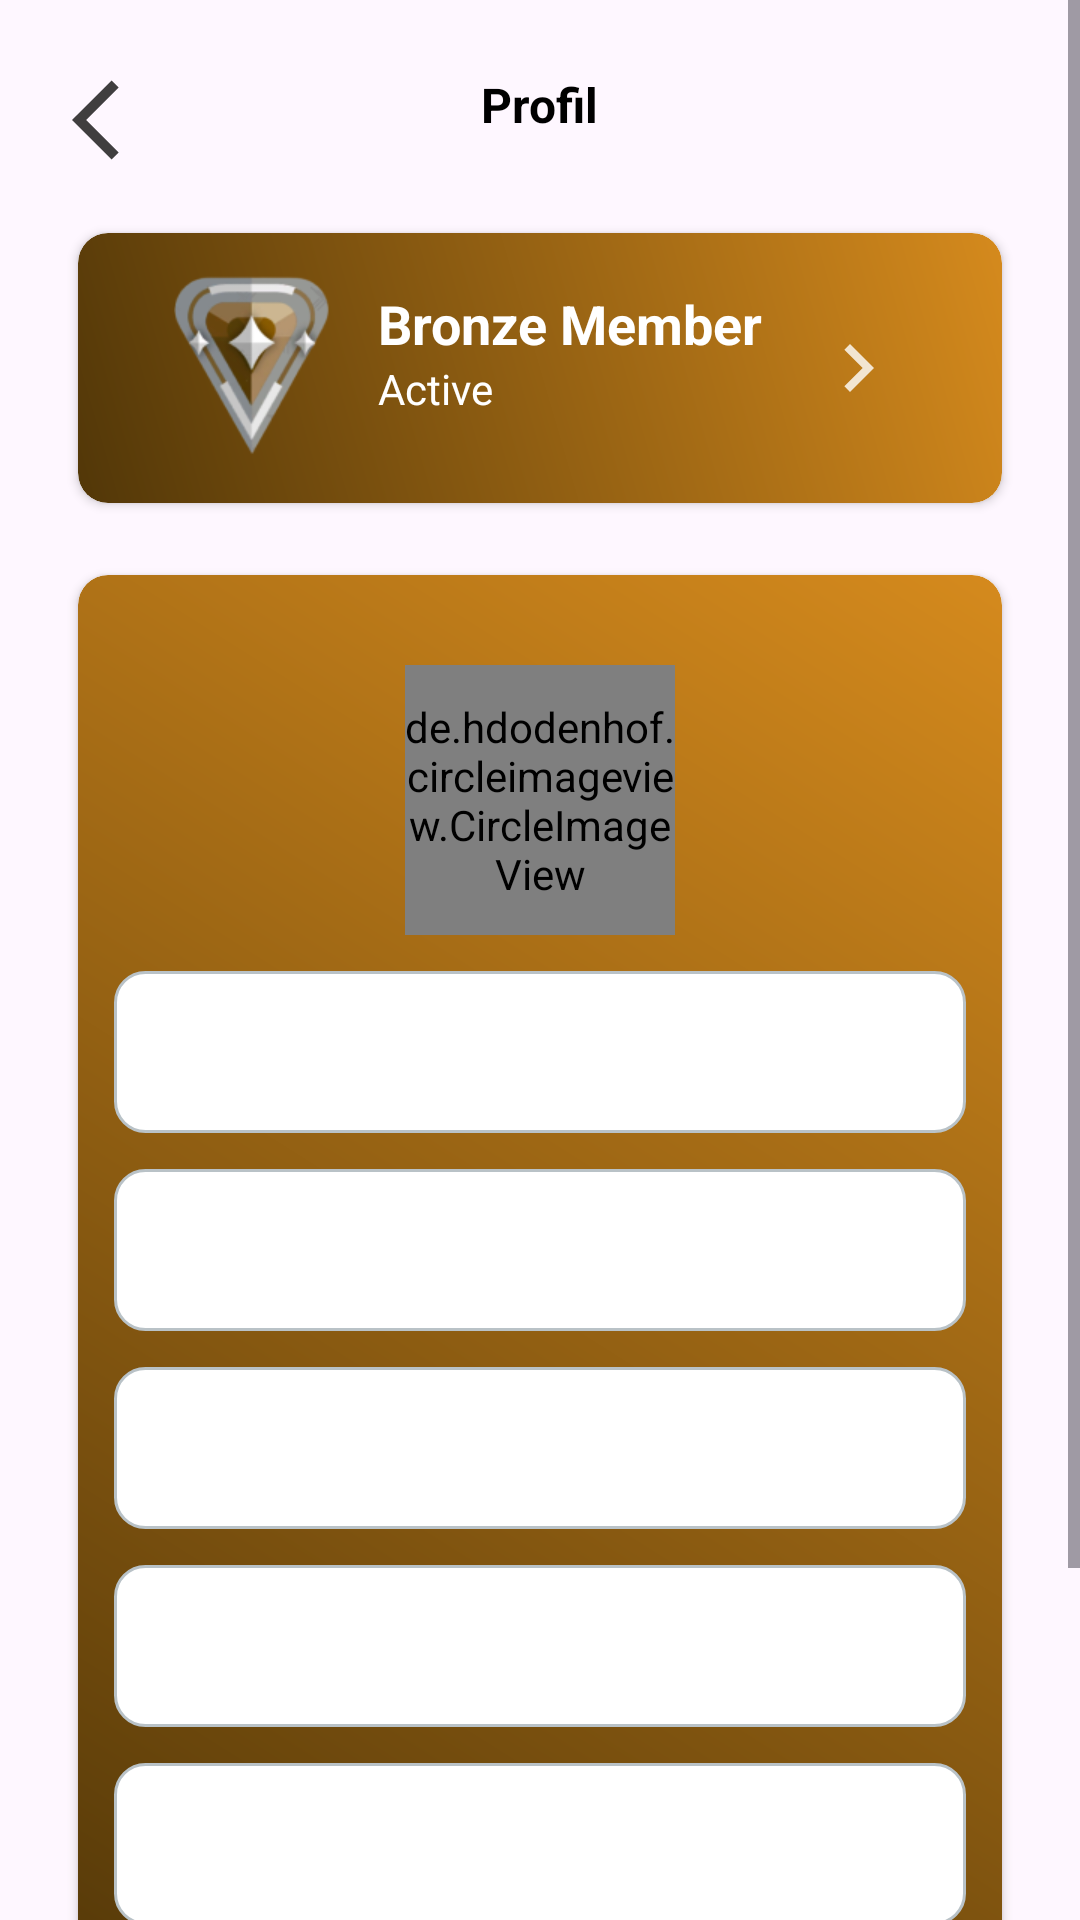

Locate icon controls on the screen. Image size 1080x1920, boxes as (x1, y1, x2, y2).
Back: (72, 80, 119, 160)
next: (844, 344, 874, 392)
